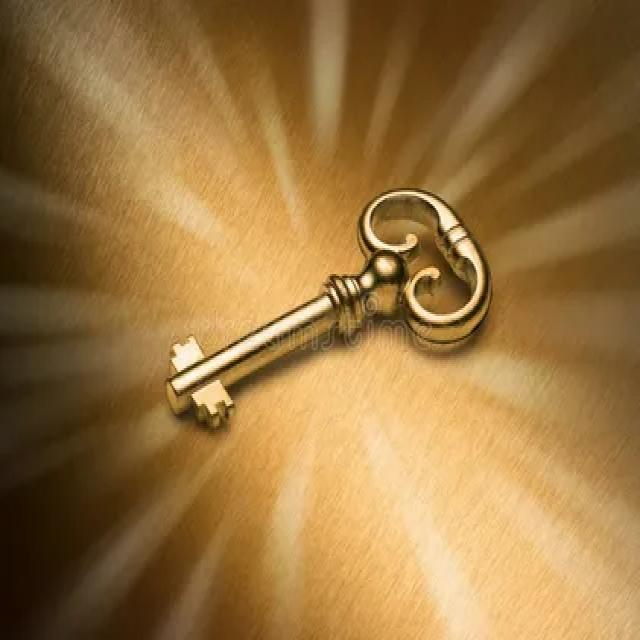key: (137, 176, 499, 466)
